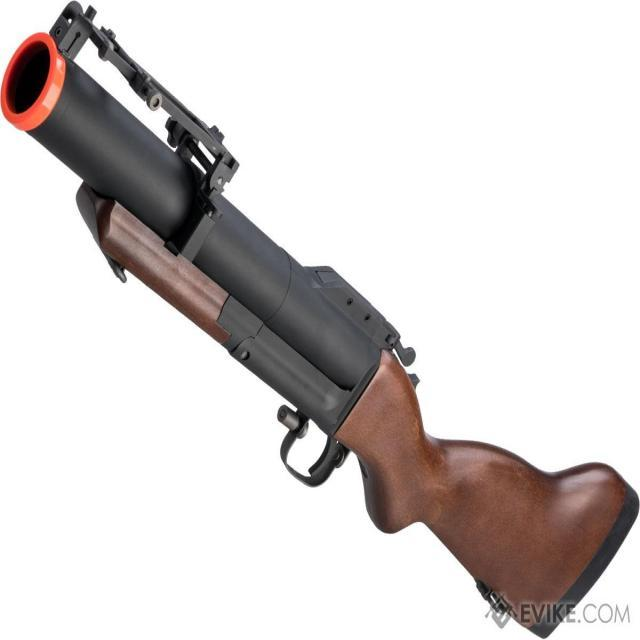rocket launcher: (6, 2, 640, 622)
